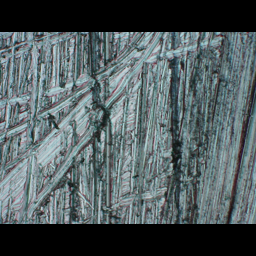d: (0, 32, 169, 214)
